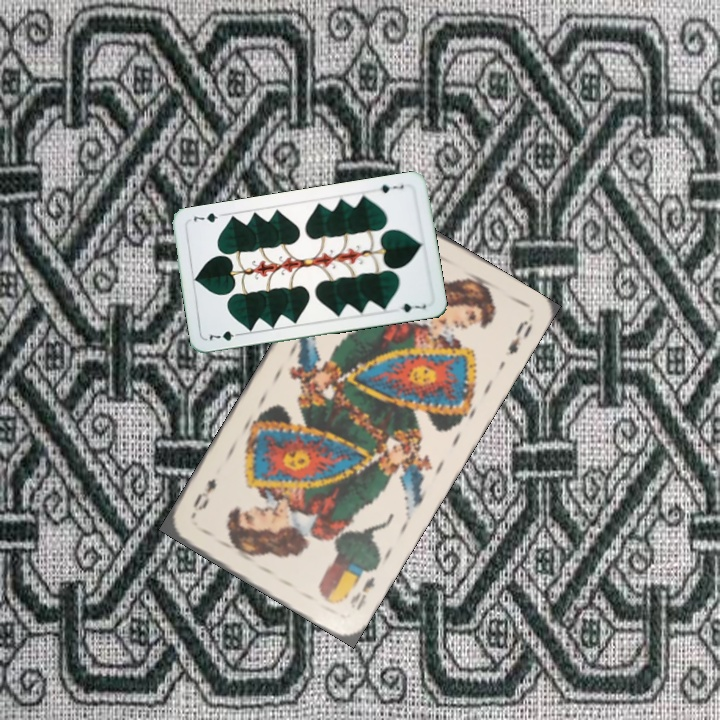EO: (345, 572, 378, 614)
G7: (204, 327, 245, 343), (376, 180, 406, 195)
